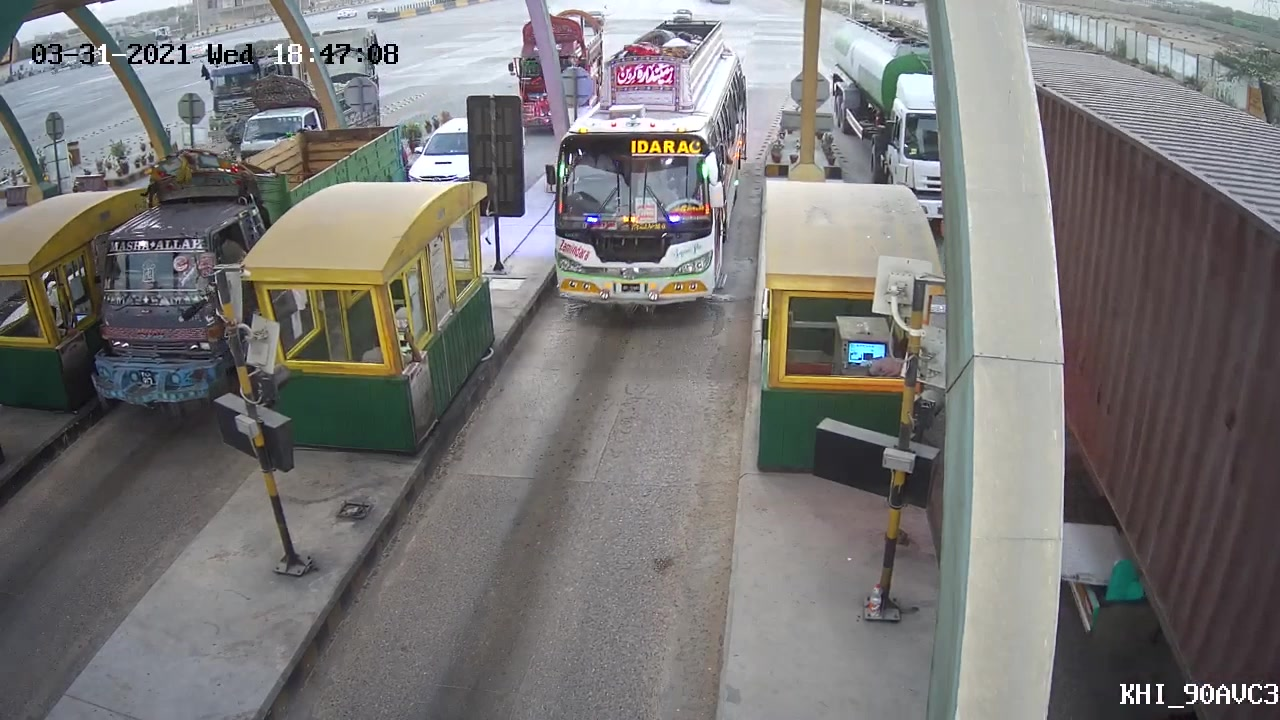F3: (533, 66, 752, 333)
